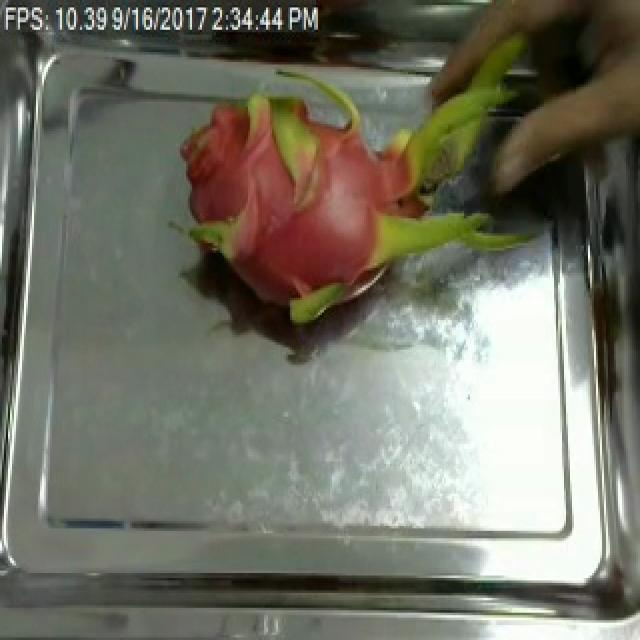fruit: (144, 5, 554, 382)
